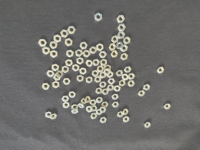nut: (95, 12, 103, 22), (38, 39, 48, 47), (117, 15, 126, 23), (61, 29, 69, 38), (54, 34, 62, 43), (49, 41, 58, 49), (42, 46, 50, 55), (118, 31, 126, 39), (68, 26, 76, 34), (50, 50, 58, 58), (65, 38, 73, 46), (80, 42, 88, 50), (116, 42, 124, 50), (109, 43, 117, 51), (121, 53, 129, 61), (90, 46, 98, 54), (83, 50, 91, 58), (66, 50, 74, 58), (65, 59, 73, 67), (52, 64, 60, 72), (72, 64, 80, 72), (52, 81, 60, 89), (121, 44, 128, 53), (118, 24, 126, 31), (112, 35, 119, 43), (97, 43, 104, 51), (111, 50, 118, 58), (99, 51, 107, 58), (76, 49, 83, 57), (157, 67, 165, 74), (86, 60, 94, 67), (77, 57, 84, 65), (62, 66, 69, 74), (56, 71, 64, 78), (116, 70, 124, 77), (86, 76, 93, 84), (143, 84, 151, 91), (138, 90, 146, 97), (42, 83, 50, 90), (63, 78, 71, 85), (128, 80, 136, 87), (108, 78, 116, 85), (124, 37, 131, 44), (125, 66, 132, 73), (101, 59, 108, 66), (93, 59, 100, 66), (54, 74, 61, 81), (105, 65, 112, 72), (97, 66, 104, 73), (80, 68, 87, 75), (92, 70, 99, 77), (104, 68, 111, 75), (107, 71, 114, 78), (100, 72, 107, 79), (95, 76, 102, 83), (77, 75, 84, 82), (129, 73, 136, 80), (122, 74, 129, 81), (119, 80, 126, 87), (114, 85, 121, 92), (96, 88, 103, 95), (122, 109, 129, 116), (69, 92, 76, 99), (63, 102, 70, 109), (50, 113, 57, 120), (96, 97, 103, 104), (81, 98, 88, 105), (100, 117, 107, 124), (86, 106, 93, 113), (91, 113, 98, 120), (47, 71, 55, 77), (102, 89, 110, 95), (112, 102, 120, 108), (62, 96, 70, 102), (99, 107, 107, 113), (164, 104, 171, 110), (100, 82, 107, 88), (108, 85, 115, 91), (112, 94, 119, 100), (123, 117, 130, 123), (45, 112, 52, 118), (102, 102, 109, 108), (84, 97, 91, 103), (90, 100, 97, 106), (78, 103, 85, 109), (72, 104, 79, 110), (96, 109, 103, 115), (118, 112, 124, 118), (92, 106, 98, 112), (72, 109, 79, 114), (145, 123, 151, 128)
